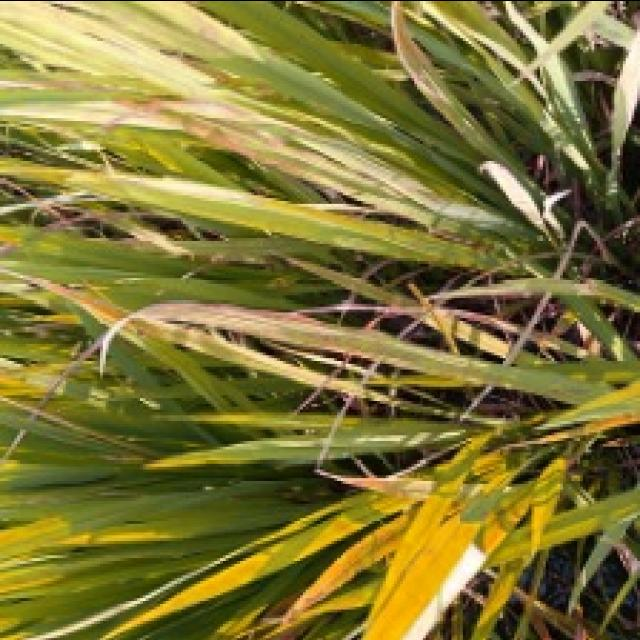Unhealthy: (214, 334, 364, 395), (179, 303, 362, 345), (320, 345, 428, 373), (610, 331, 623, 362), (537, 337, 561, 348), (576, 346, 589, 357)
